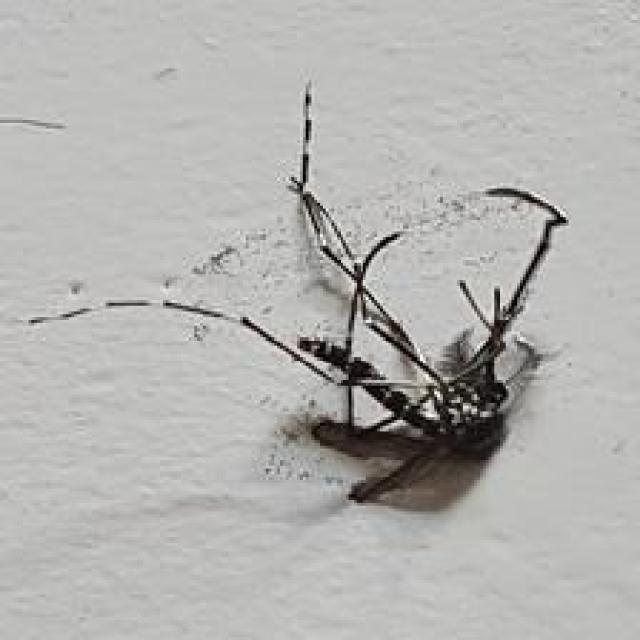Aedes albopictus: (27, 77, 570, 506)
